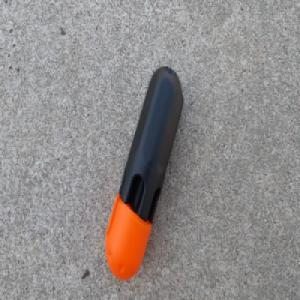PlasticPart: (104, 64, 184, 282)
